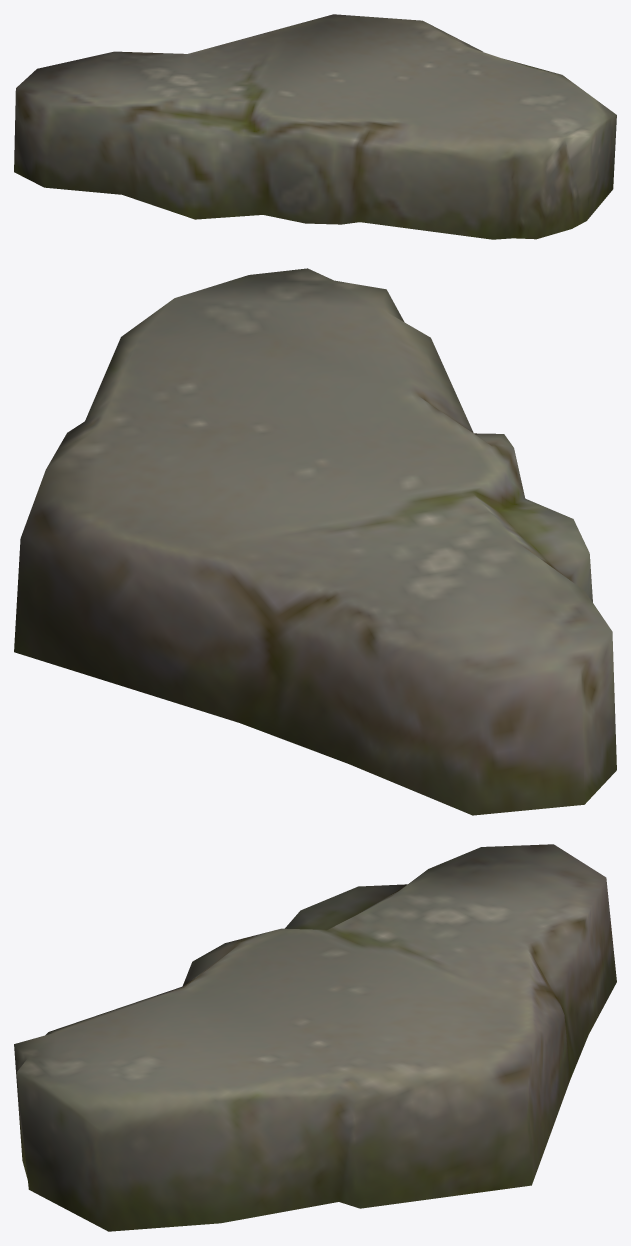
Rendered from stone002.FBX.
The picture shows the model from 3 angles, top to bottom: view 1: azimuth 30°, elevation 25°; view 2: azimuth 150°, elevation 25°; view 3: azimuth 270°, elevation 25°; orthographic projection. The views are drawn at different scales.
Parts seen in each view (by area): view 1: commen_model_04_stone002; view 2: commen_model_04_stone002; view 3: commen_model_04_stone002.
Part boxes in pixels (bbox=[...]): commen_model_04_stone002: bbox=[14, 14, 616, 239]; commen_model_04_stone002: bbox=[14, 268, 616, 815]; commen_model_04_stone002: bbox=[14, 844, 616, 1231].
Bounding box in the file's own units: 1.25 × 0.2678 × 1.14.
